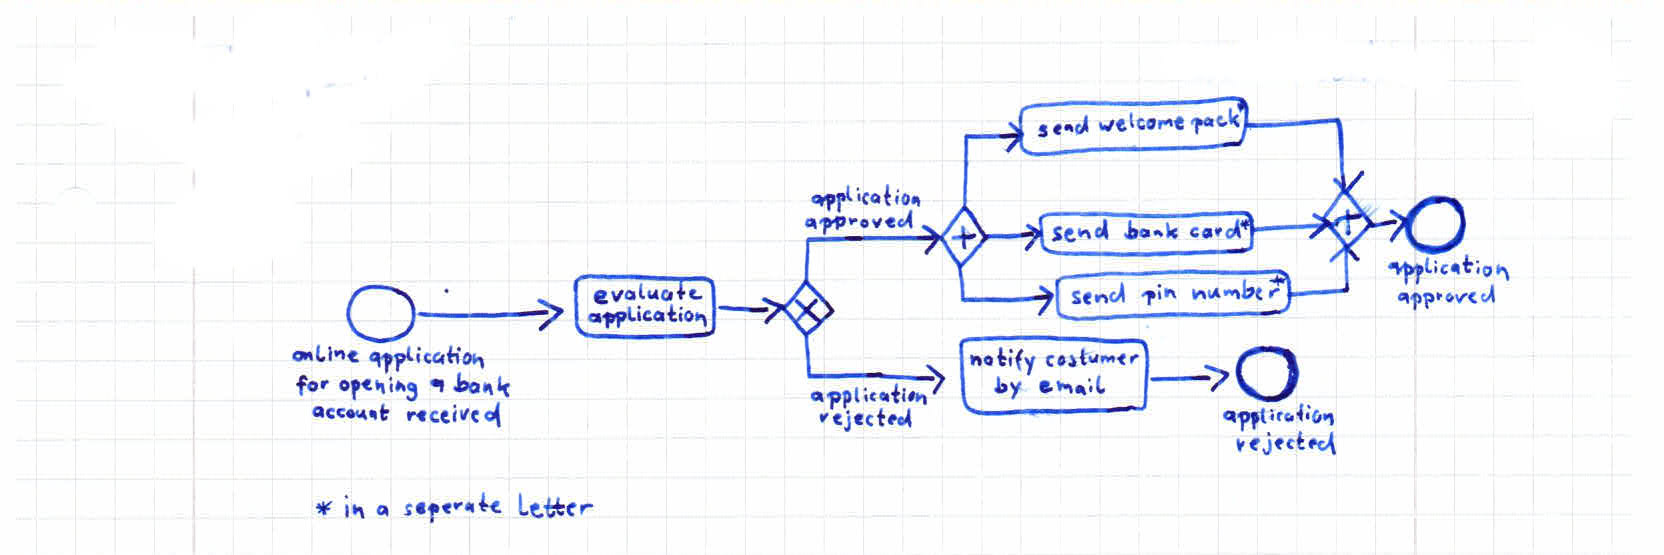*in: (310, 485, 374, 523)
a: (371, 495, 399, 527)
account: (302, 401, 398, 426)
application: (365, 341, 492, 375), (1377, 253, 1513, 284), (805, 180, 925, 213), (803, 381, 932, 410), (1219, 402, 1338, 431), (584, 306, 709, 330)
approved: (1393, 282, 1503, 316), (797, 210, 919, 235)
bank: (1124, 219, 1183, 245), (456, 375, 513, 401)
by: (990, 375, 1029, 404)
card*: (1186, 216, 1252, 243)
costumer: (1038, 347, 1143, 374)
email: (1033, 375, 1107, 398)
evaluate: (595, 282, 708, 307)
for: (293, 374, 332, 399)
letter: (516, 492, 595, 521)
notify: (966, 342, 1039, 377)
number*: (1184, 274, 1284, 311)
online: (285, 340, 367, 370)
opening: (336, 375, 428, 399)
pack: (1186, 105, 1243, 140)
pin: (1136, 281, 1188, 311)
received: (401, 401, 507, 441)
rejected: (1229, 430, 1338, 463), (816, 407, 914, 435)
send: (1048, 220, 1120, 247), (1032, 116, 1094, 143), (1067, 284, 1137, 309)
seperate: (400, 492, 512, 521)
welcome: (1093, 109, 1190, 139)
